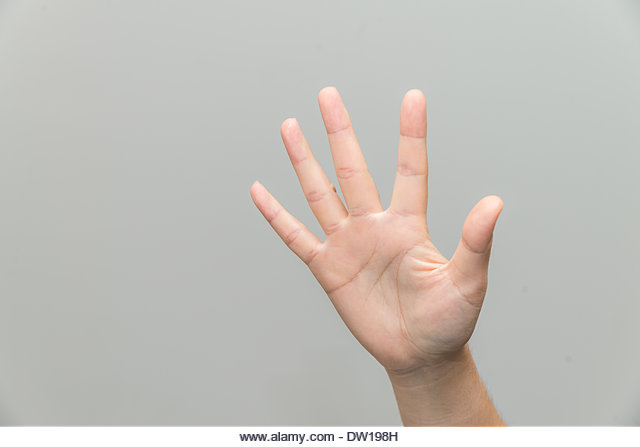hand: (239, 76, 512, 386)
